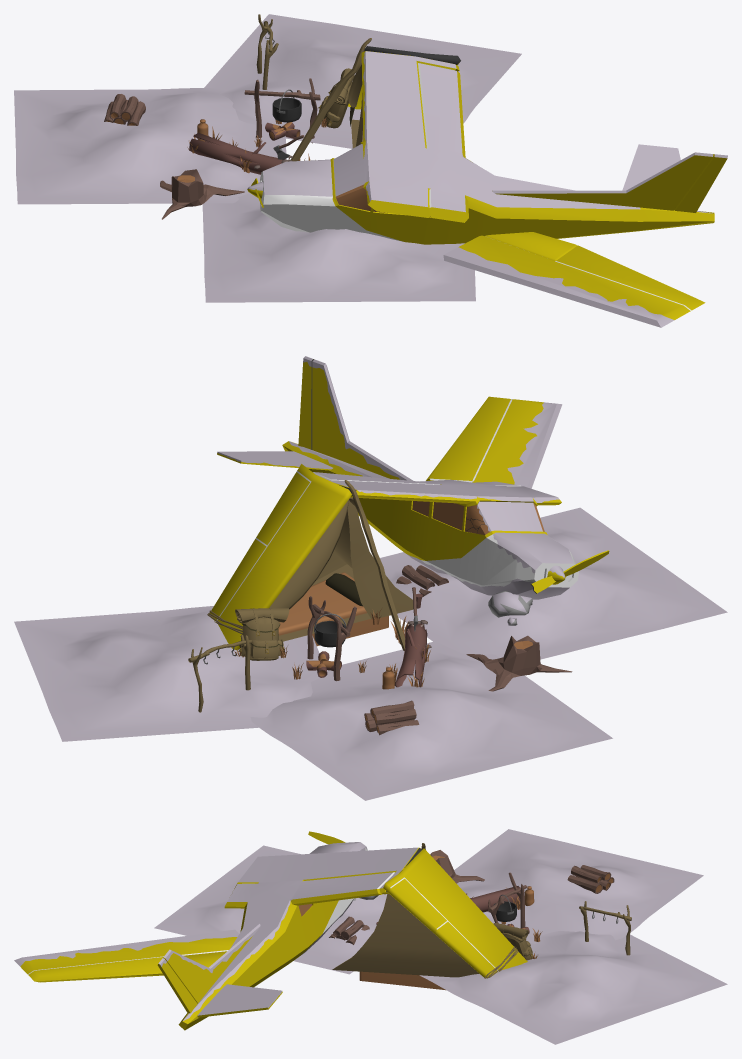
File: plane main.fbx
3 renders of one model, top to bottom at view 1: azimuth 30°, elevation 25°; view 2: azimuth 150°, elevation 25°; view 3: azimuth 270°, elevation 25°, orthographic. The views are drawn at different scales.
Parts seen in each view (by area): view 1: Cube.038, Snowdrift_plane.009, Snowdrift_plane.008, Snowdrift_plane.007, Cube.034, Cube.035, WoodLog.020, LowPoly Tree .001, Cube.036, BirchTree_Dead_3.002, BirchTree_Dead_3.001, Backpack.001 (+3 smaller); view 2: Snowdrift_plane.009, Snowdrift_plane.007, Snowdrift_plane.008, Cube.038, Cube.037, Cube.034, Cube.035, Plane.004, Cube.024, Cube.026, Backpack.001, LowPoly Tree .001 (+6 smaller); view 3: Snowdrift_plane.007, Cube.038, Snowdrift_plane.009, Cube.037, Snowdrift_plane.008, Cube.034, Plane.004, Cube.035, Cube.036, Cube.024, Backpack.001, BezierCurve.001 (+4 smaller).
Part boxes in pixels (x1,y1,x2,y2): Cube.038: (260,51,714,244); Snowdrift_plane.009: (14,88,286,204); Snowdrift_plane.008: (202,193,475,302); Snowdrift_plane.007: (204,14,521,148); Cube.034: (443,232,705,327); Cube.035: (492,152,727,212); WoodLog.020: (189,132,292,174); LowPoly Tree .001: (160,169,244,219); Cube.036: (622,144,680,190); BirchTree_Dead_3.002: (290,38,371,161); BirchTree_Dead_3.001: (244,78,320,143); Backpack.001: (318,68,354,128); Snowdrift_plane.009: (250,641,612,800); Snowdrift_plane.007: (14,606,319,741); Snowdrift_plane.008: (380,507,727,659); Cube.038: (282,441,578,599); Cube.037: (210,464,352,650); Cube.034: (426,396,562,488); Cube.035: (298,356,413,480); Plane.004: (316,500,413,619); Cube.024: (278,572,388,646); Cube.026: (269,499,349,609); Backpack.001: (235,608,289,660); LowPoly Tree .001: (466,635,572,691); Snowdrift_plane.007: (419,931,727,1044); Cube.038: (178,842,421,1030); Snowdrift_plane.009: (454,829,703,943); Cube.037: (383,848,527,978); Snowdrift_plane.008: (154,845,387,974); Cube.034: (14,929,238,982); Plane.004: (332,893,479,977); Cube.035: (157,924,260,1013); Cube.036: (197,984,282,1017); Cube.024: (359,971,445,990); Backpack.001: (493,922,533,960); BezierCurve.001: (579,901,631,955).
Size of the model in its own units: 2327 by 612 by 3254.
